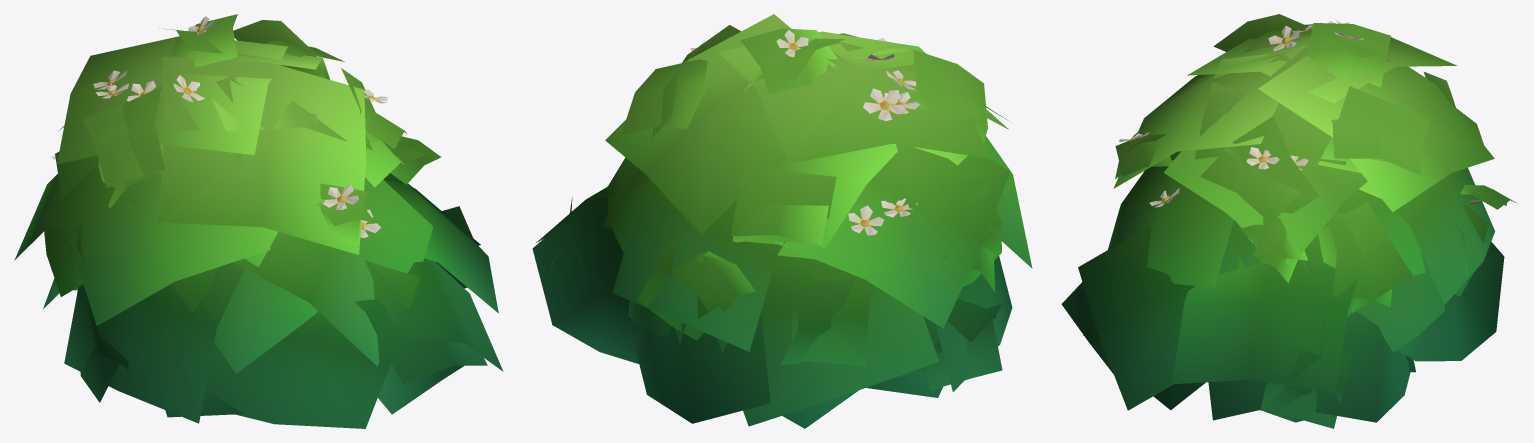
The model's file is bush_3.glb.
The picture shows the model from 3 angles, left to right: view 1: azimuth 30°, elevation 25°; view 2: azimuth 150°, elevation 25°; view 3: azimuth 270°, elevation 25°; orthographic projection. The views are drawn at different scales.
Parts seen in each view (by area): view 1: bush_3; view 2: bush_3; view 3: bush_3.
Boxes of the visible parts, x1,y1,x2,y2 form: bush_3: (14,14,503,428); bush_3: (532,14,1032,428); bush_3: (1061,14,1516,428).
Bounding box in the file's own units: 0.621 × 0.4325 × 0.6057.
